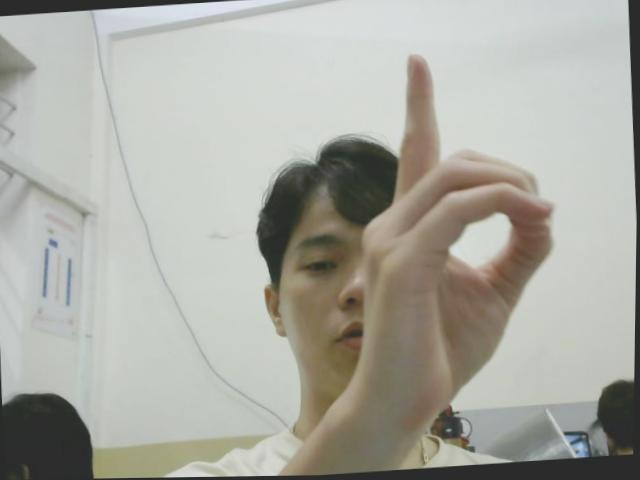D: (349, 42, 565, 408)
